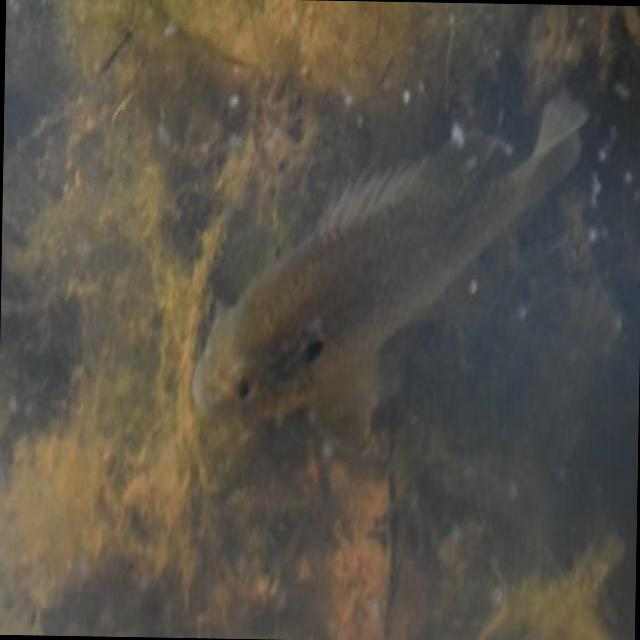Gunes Levregi: (187, 74, 588, 457)
